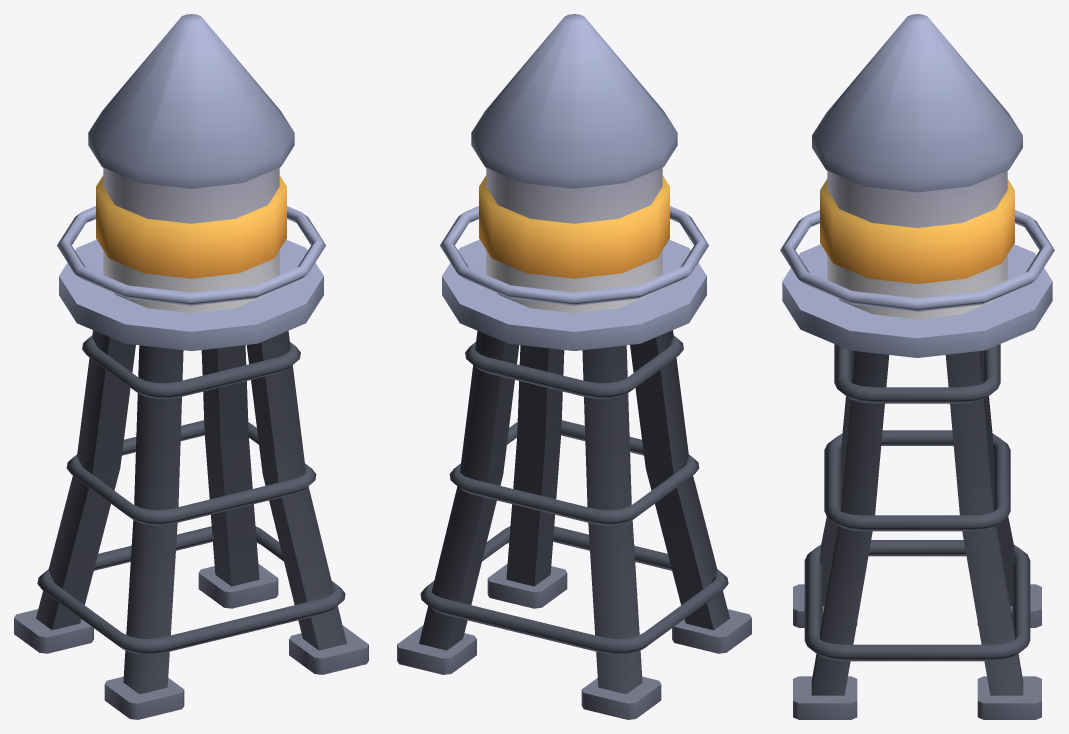
Rendered from industrial.water_tower.glb.
3 renders of one model, left to right at view 1: azimuth 30°, elevation 25°; view 2: azimuth 150°, elevation 25°; view 3: azimuth 270°, elevation 25°, orthographic. The views are drawn at different scales.
Parts seen in each view (by area): view 1: water-tower; view 2: water-tower; view 3: water-tower.
Boxes of the visible parts, x1,y1,x2,y2 form: water-tower: (14,14,368,719); water-tower: (397,14,751,719); water-tower: (780,14,1054,719).
Size of the model in its own units: 4.69 by 11.78 by 4.57.
Materials: 1 (1 with a texture image).
